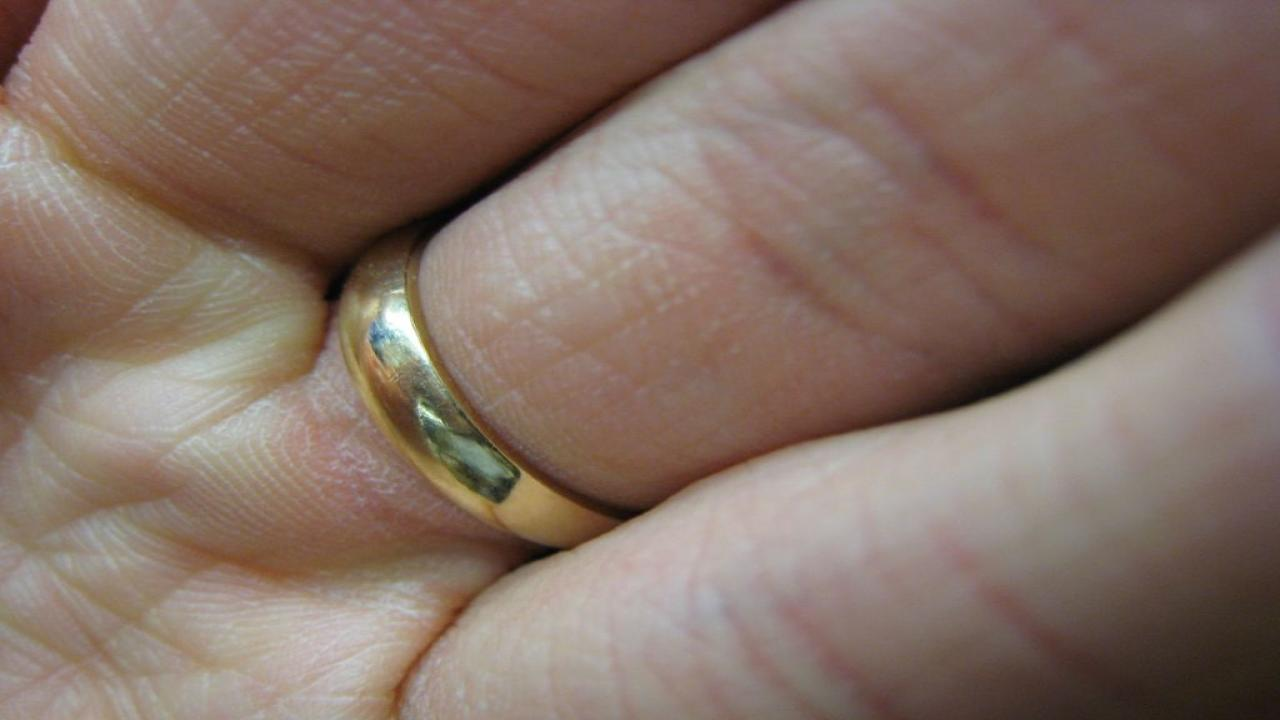ring: (321, 210, 624, 550)
